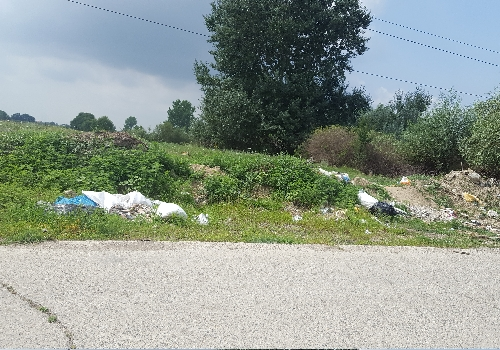trash: (40, 177, 218, 227), (317, 160, 458, 223)
